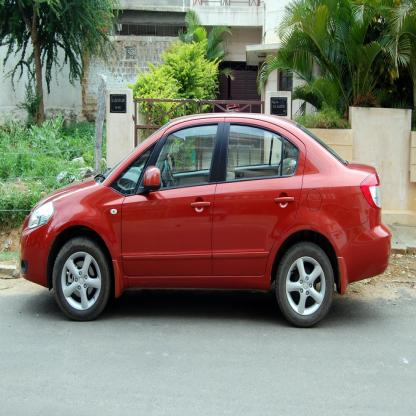Car: (20, 113, 393, 328)
